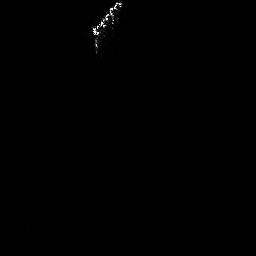ship: (88, 1, 124, 57)
